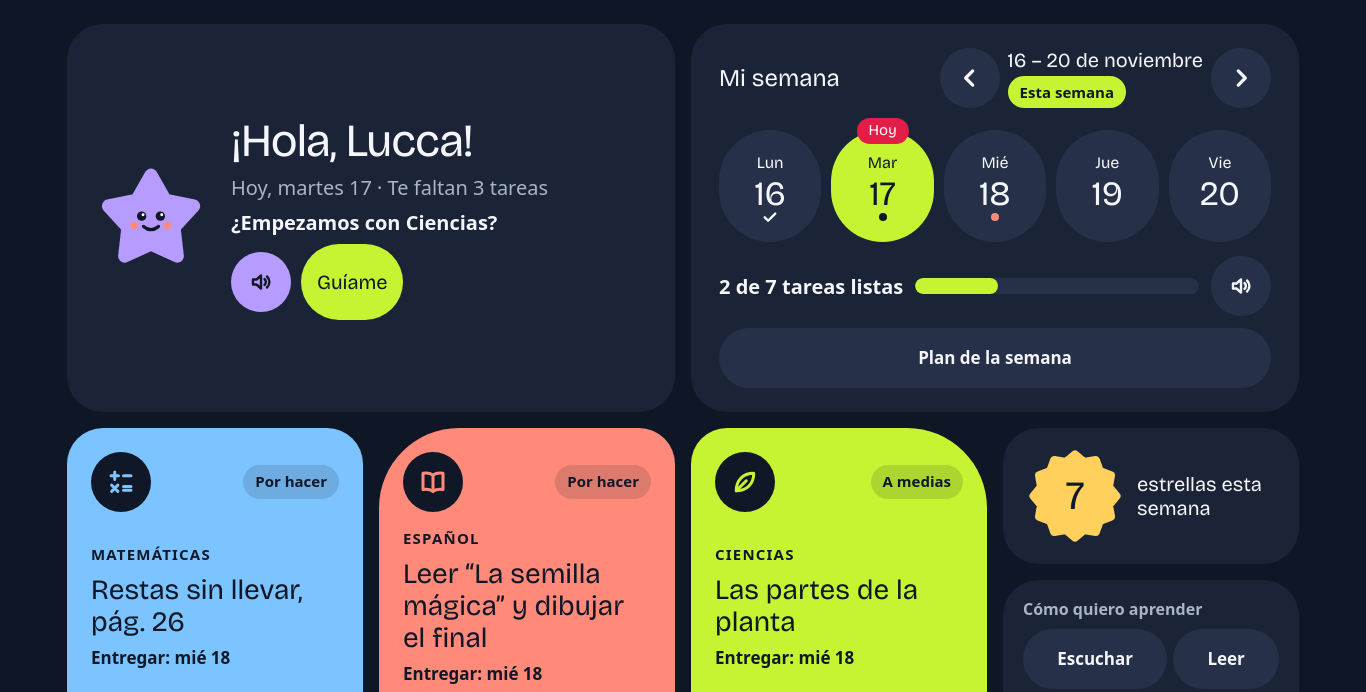
Test case: WeekScreen week selection and summary › next week shows Monday 23 to Friday 27 and a way back
Click the button named "Semana siguiente" at (1241, 78), box [1211,48,1271,108]
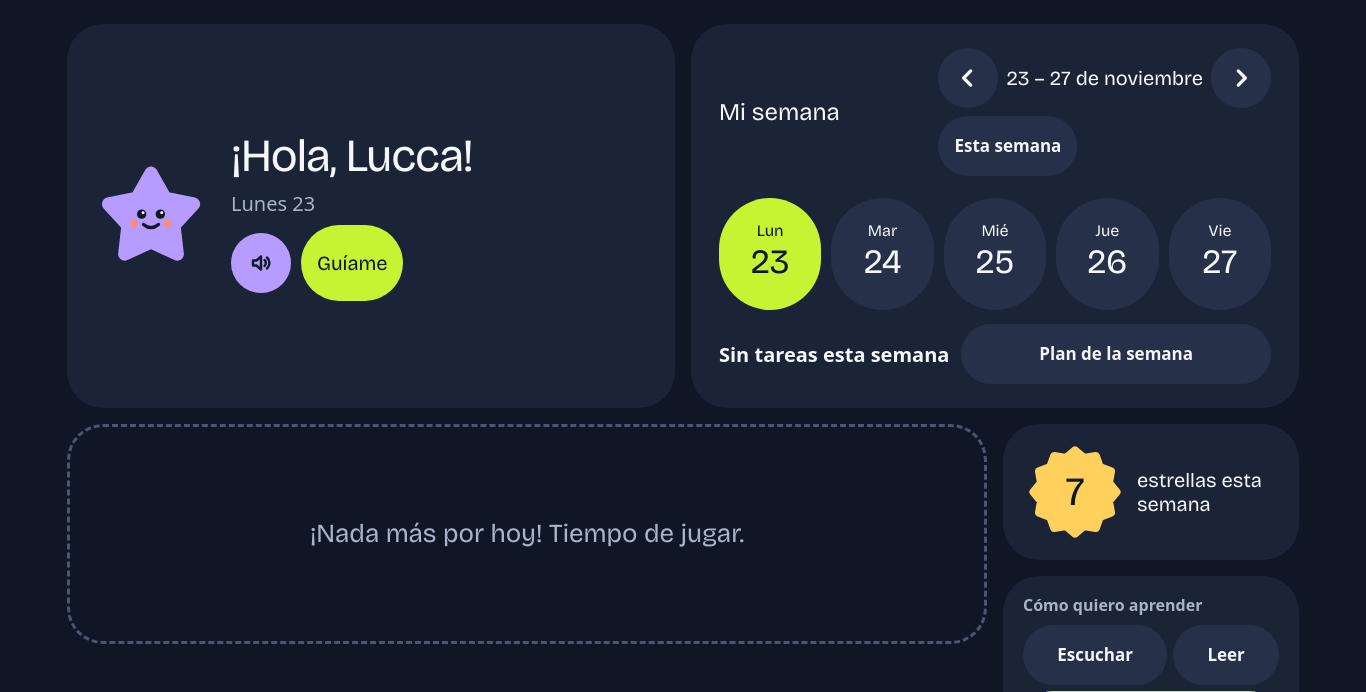
Expected: the text "23 – 27 de noviembre" is shown, [1006,66,1203,90]
Expected: the button with aria-label "Lunes 23" is shown, [719,198,821,310]
Expected: the button with aria-label "Viernes 27" is shown, [1169,198,1271,310]
